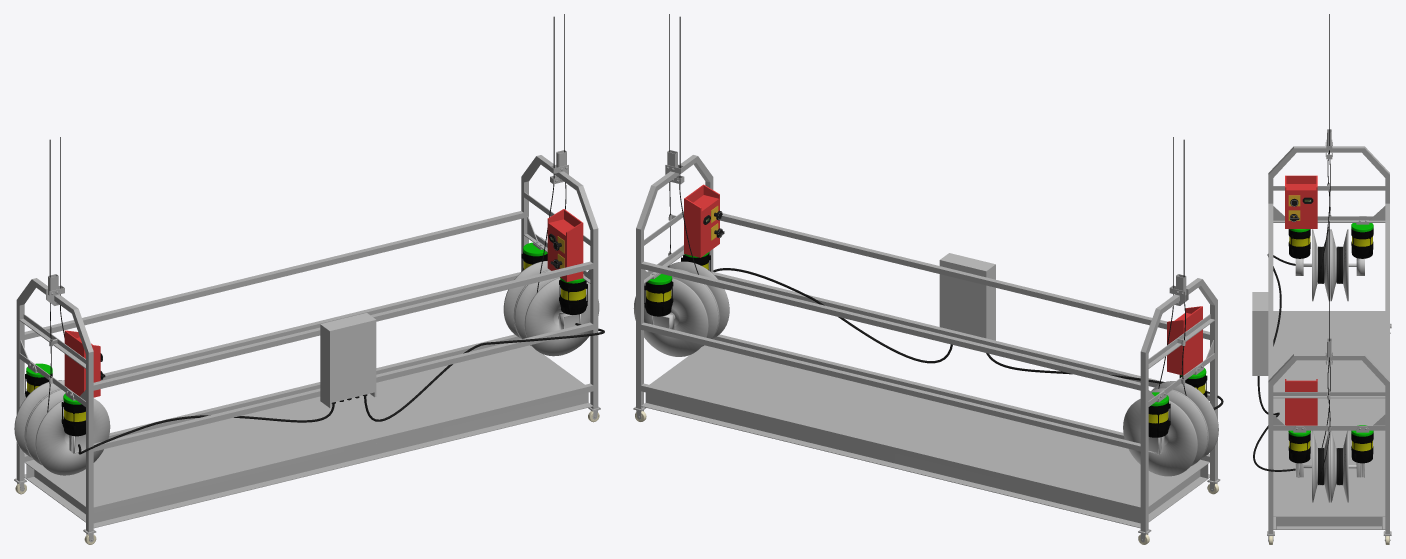
File: window-cleaners-platform-for-skyscraper-3d-asset.glb
3 views of the same model, side by side, from view 1: azimuth 30°, elevation 25°; view 2: azimuth 150°, elevation 25°; view 3: azimuth 270°, elevation 25° (orthographic). The views are drawn at different scales.
Visible parts, largest first — view 1: U_Channel_50x50mm.006, Cylinder.013, Cube.036, Cylinder.017, Cube.037, Cube.027, Generator_frame.004, Generator_frame.002, object 5, object 6; view 2: U_Channel_50x50mm.006, Cylinder.013, Cylinder.017, Cube.036, Cube.037, Cube.027, Generator_frame.001, Generator_frame.003, object 5; view 3: U_Channel_50x50mm.006, Cube.027, Cylinder.013, Cylinder.017, Cube.036, Cube.037, Generator_frame.003, Generator_frame.001, Generator_frame.004, Generator_frame.002, object 5, object 4 (+2 smaller).
Boxes of the visible parts, left/top/right/bottom form: U_Channel_50x50mm.006: left=14, top=150, right=600, bottom=533; Cylinder.013: left=14, top=380, right=110, bottom=475; Cube.036: left=320, top=313, right=376, bottom=407; Cylinder.017: left=503, top=261, right=599, bottom=356; Cube.037: left=547, top=209, right=583, bottom=281; Cube.027: left=64, top=330, right=105, bottom=397; Generator_frame.004: left=557, top=277, right=587, bottom=329; Generator_frame.002: left=61, top=393, right=85, bottom=453; object 5: left=364, top=323, right=604, bottom=421; object 6: left=78, top=404, right=334, bottom=454; U_Channel_50x50mm.006: left=633, top=150, right=1220, bottom=534; Cylinder.013: left=1123, top=381, right=1218, bottom=476; Cylinder.017: left=633, top=261, right=729, bottom=356; Cube.036: left=939, top=253, right=995, bottom=340; Cube.037: left=684, top=184, right=724, bottom=257; Cube.027: left=1167, top=306, right=1202, bottom=375; Generator_frame.001: left=644, top=274, right=675, bottom=329; Generator_frame.003: left=1148, top=392, right=1170, bottom=454; object 5: left=713, top=268, right=952, bottom=363; U_Channel_50x50mm.006: left=1267, top=129, right=1391, bottom=535; Cube.027: left=1285, top=175, right=1317, bottom=228; Cylinder.013: left=1312, top=229, right=1348, bottom=301; Cylinder.017: left=1312, top=430, right=1348, bottom=502; Cube.036: left=1252, top=292, right=1268, bottom=375; Cube.037: left=1285, top=379, right=1317, bottom=425; Generator_frame.003: left=1348, top=223, right=1373, bottom=275; Generator_frame.001: left=1348, top=425, right=1373, bottom=477; Generator_frame.004: left=1288, top=430, right=1311, bottom=477; Generator_frame.002: left=1288, top=229, right=1311, bottom=275; object 5: left=1253, top=376, right=1295, bottom=471; object 4: left=1318, top=18, right=1330, bottom=278.
Bounding box in the file's own units: 3.38 × 2.18 × 0.8599.
